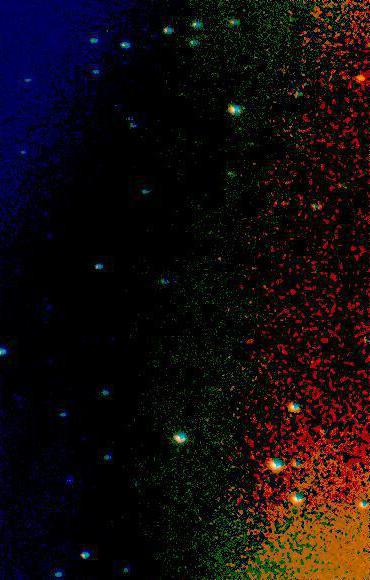star: (349, 64, 370, 94)
